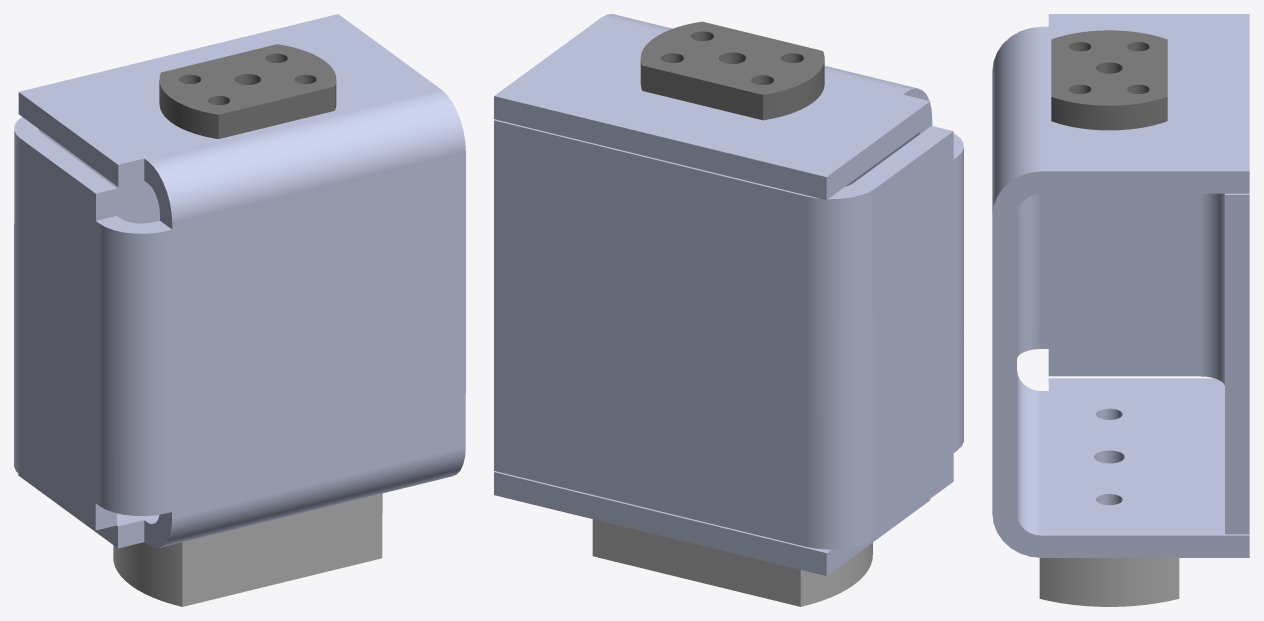
File: Extruder_Mount.glb
3 renders of one model, left to right at view 1: azimuth 30°, elevation 25°; view 2: azimuth 150°, elevation 25°; view 3: azimuth 270°, elevation 25°, orthographic. The views are drawn at different scales.
Parts seen in each view (by area): view 1: Extruder Mount and Guides; view 2: Extruder Mount and Guides; view 3: Extruder Mount and Guides.
Part boxes in pixels (left/top/right/bottom): Extruder Mount and Guides: left=14, top=14, right=465, bottom=606; Extruder Mount and Guides: left=494, top=14, right=963, bottom=606; Extruder Mount and Guides: left=992, top=14, right=1249, bottom=606.
Size of the model in its own units: 0.0513 by 0.0685 by 0.0332.
